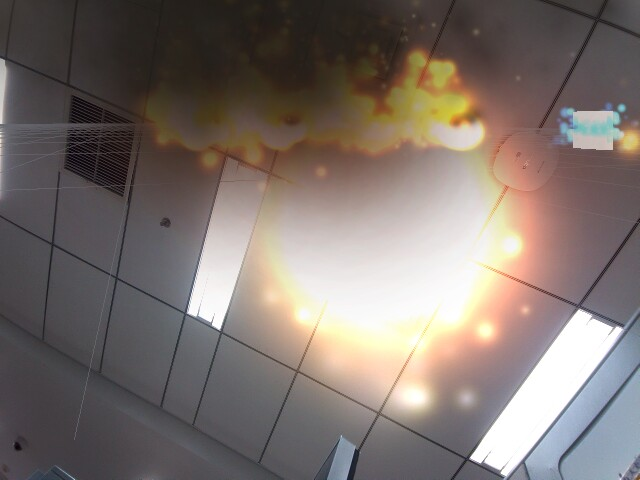fire: (289, 125, 514, 364), (164, 100, 219, 155)
